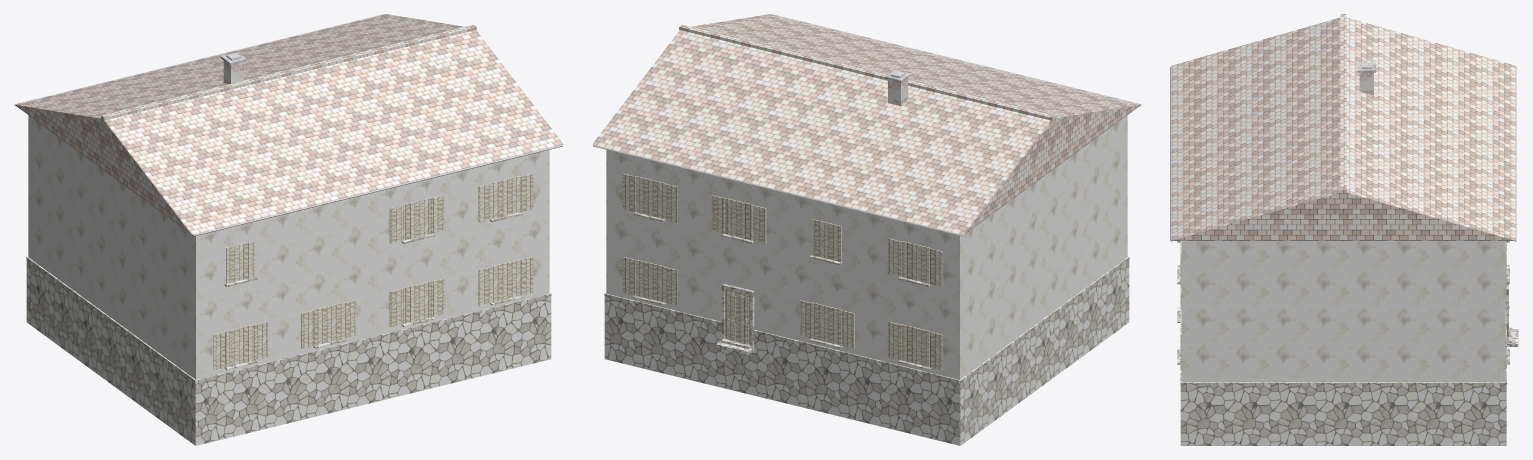
3 views of the same model, side by side, from view 1: azimuth 30°, elevation 25°; view 2: azimuth 150°, elevation 25°; view 3: azimuth 270°, elevation 25° (orthographic). The views are drawn at different scales.
Visible parts, largest first — view 1: b947602176; view 2: b947602176; view 3: b947602176.
Part boxes in pixels (x1,y1,x2,y2): b947602176: [14, 14, 563, 445]; b947602176: [592, 14, 1141, 445]; b947602176: [1170, 14, 1518, 445].
Size of the model in its own units: 14.5 by 10.65 by 12.14.
19 materials, 19 textured.
